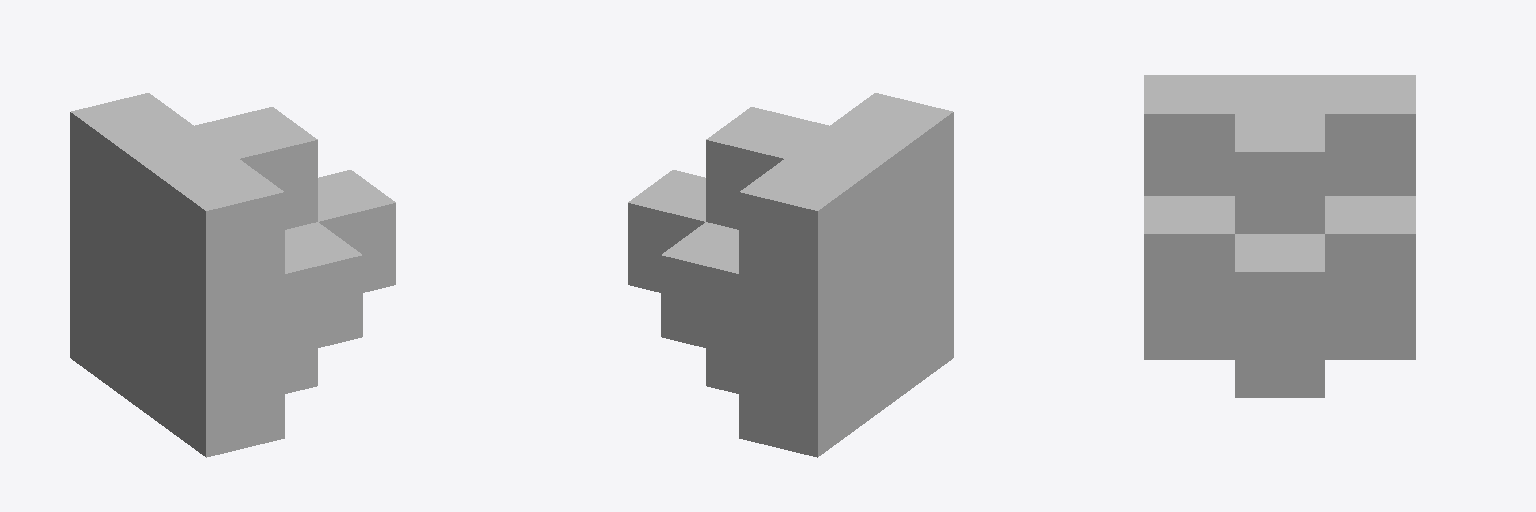
Rendered from enemy03_Weakness.obj.
3 views of the same model, side by side, from view 1: azimuth 30°, elevation 25°; view 2: azimuth 150°, elevation 25°; view 3: azimuth 270°, elevation 25° (orthographic).
Bounding box in the file's own units: 3 × 3 × 3.